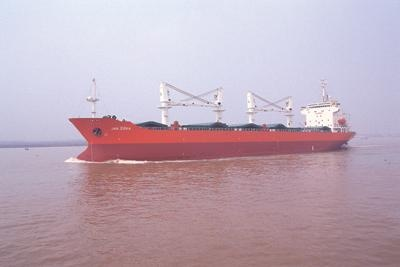Cargoship: (68, 68, 359, 166)
